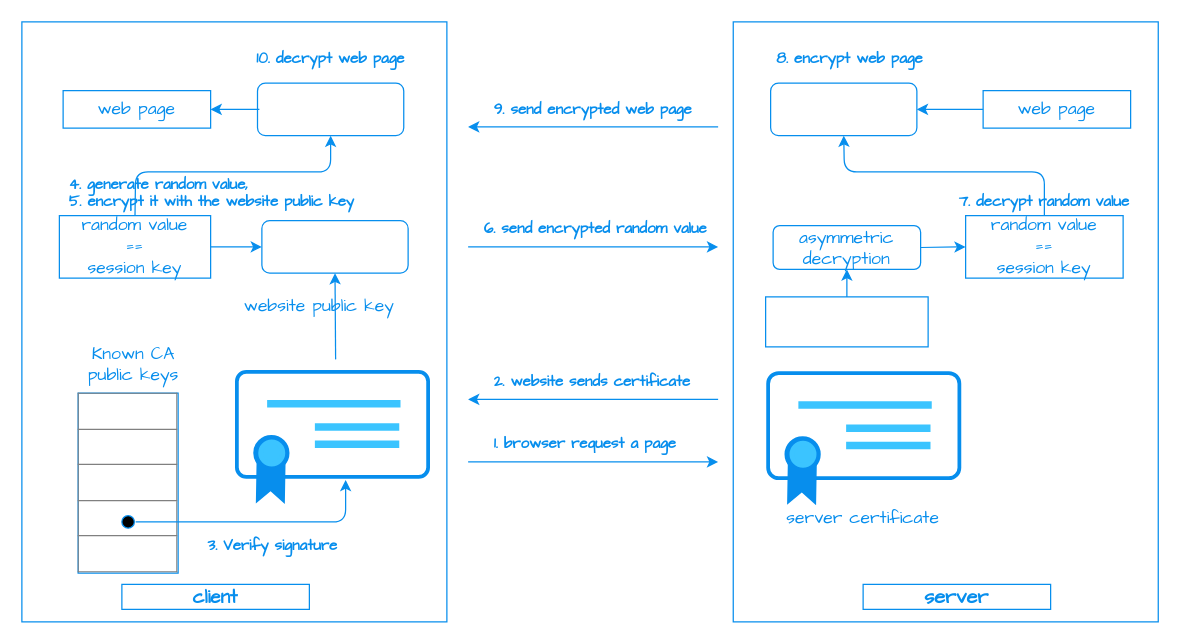
Image size: 1181x644. Some labels were removed from this diagram. Here are the shapes that lost their labels. From the top down, the centre of each, then its label:
[330,109]: symmetric decryption
[843,109]: symmetric encryption
[334,246]: asymmetric encryption
[846,321]: Site's private key
